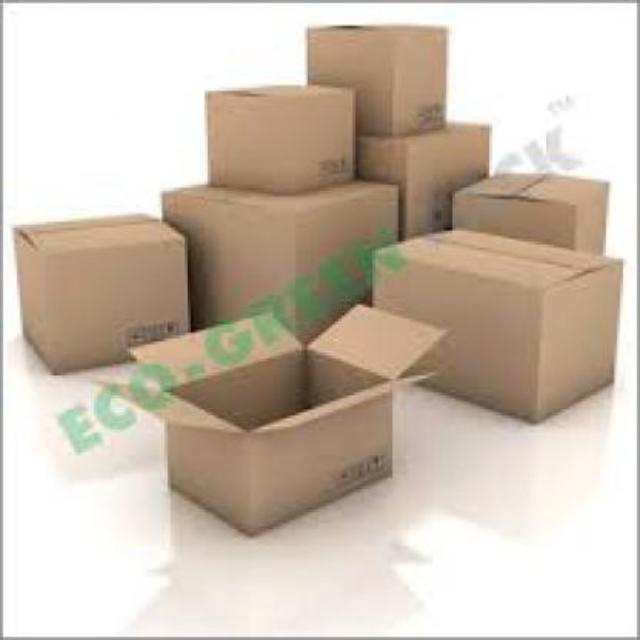cardboard_box: (130, 326, 414, 544), (368, 226, 624, 426), (161, 66, 359, 196), (15, 216, 185, 364), (458, 170, 600, 334), (297, 14, 461, 134), (384, 121, 500, 259)
